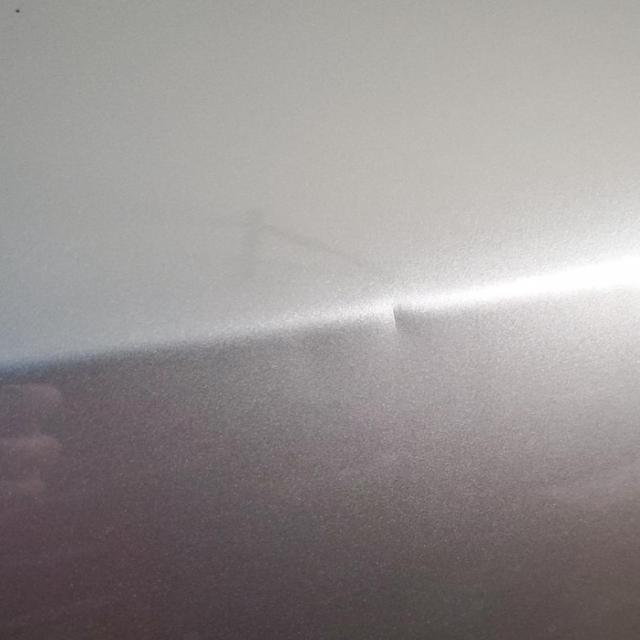dents: (356, 292, 452, 373)
